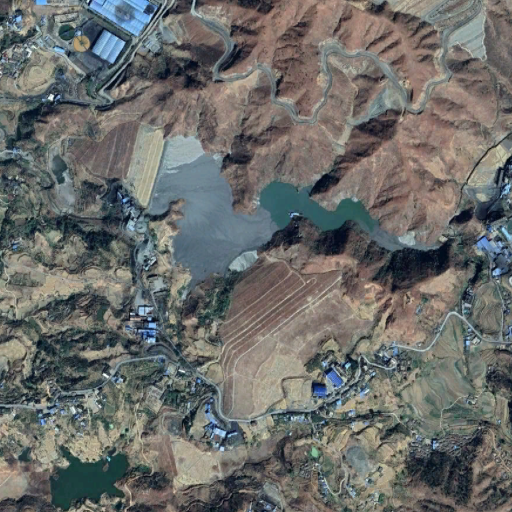tp: (61, 121, 444, 280)
